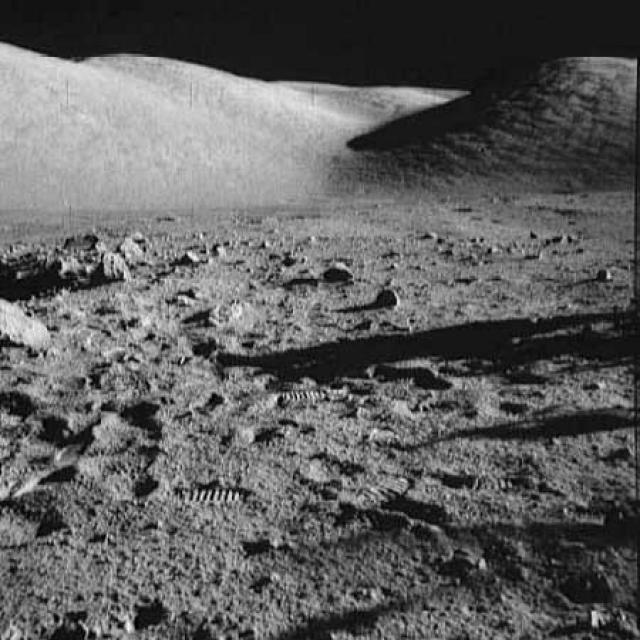rock: (43, 229, 121, 285), (0, 299, 50, 358), (120, 228, 152, 265), (322, 247, 354, 283), (365, 285, 407, 306)
